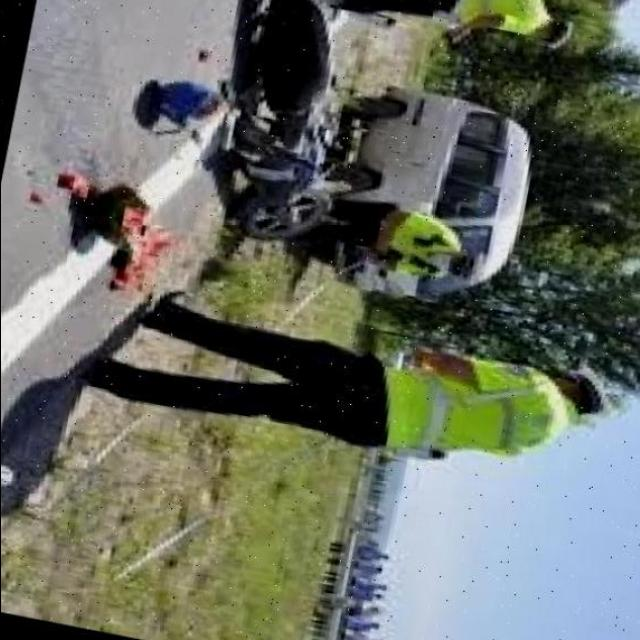accident: (159, 0, 437, 296)
